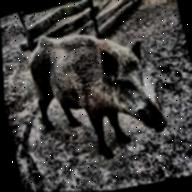boar: (10, 0, 192, 178)
